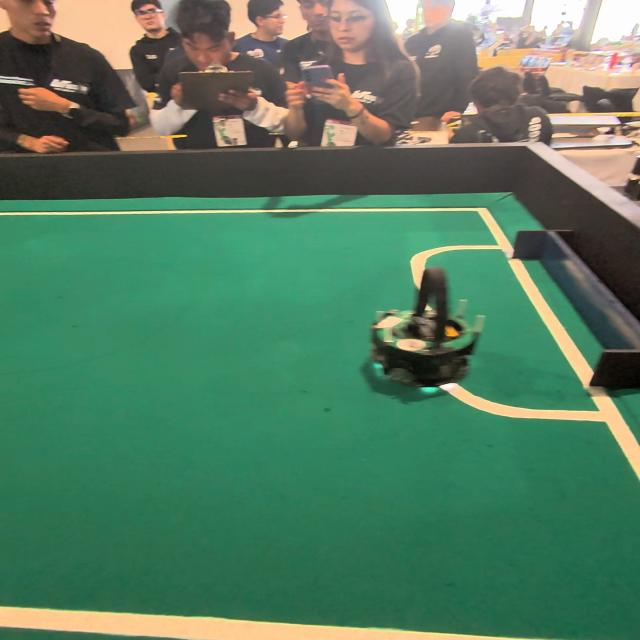Robot: (358, 259, 501, 412)
